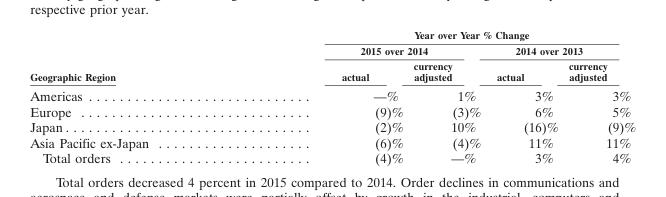table: (29, 28, 635, 165)
table column: (29, 28, 244, 165), (244, 28, 407, 165), (407, 28, 488, 165), (488, 28, 562, 165), (562, 28, 635, 165)
table column header: (29, 28, 635, 85)
table row: (29, 58, 635, 85), (29, 85, 635, 103), (29, 42, 635, 58), (29, 103, 635, 119), (29, 134, 635, 150), (29, 119, 635, 134), (29, 150, 635, 165), (29, 28, 635, 42)
table spanning cell: (29, 28, 244, 85), (244, 28, 635, 42), (244, 42, 488, 58), (488, 42, 635, 58)
